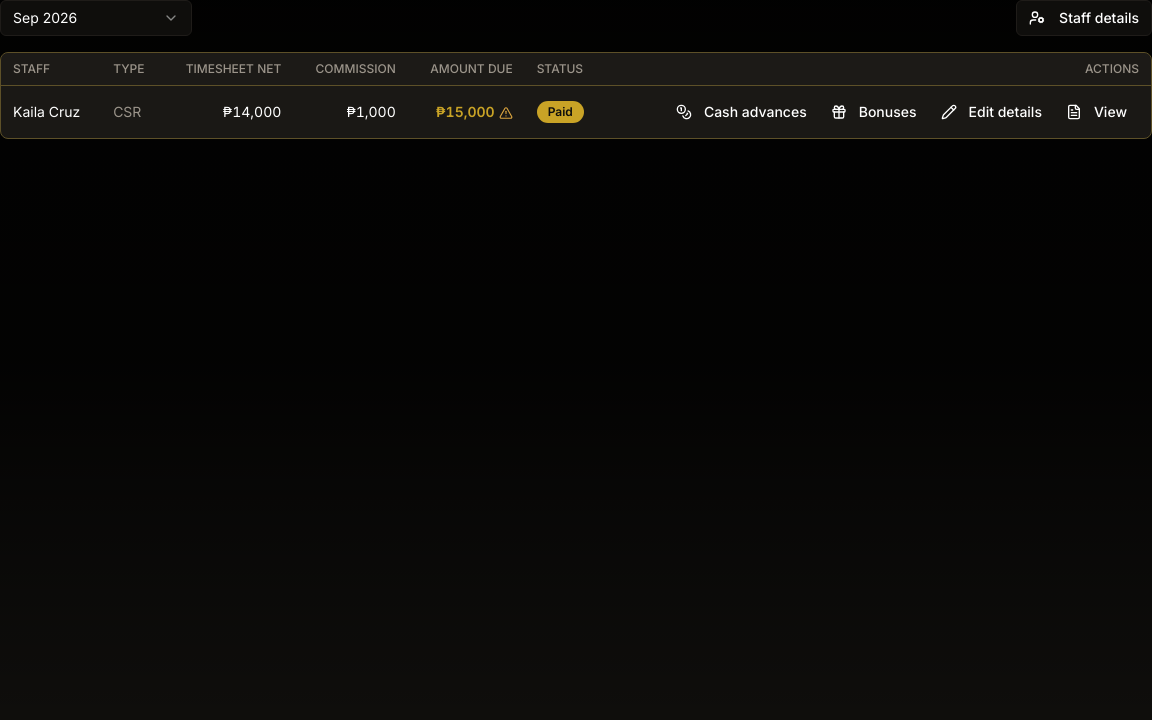
Test: Payslips tab — Edit figures › a corrected payslip says so on the view
The image size is (1152, 720).
Click the button "View" at (1096, 112), box [1054,94,1139,130]
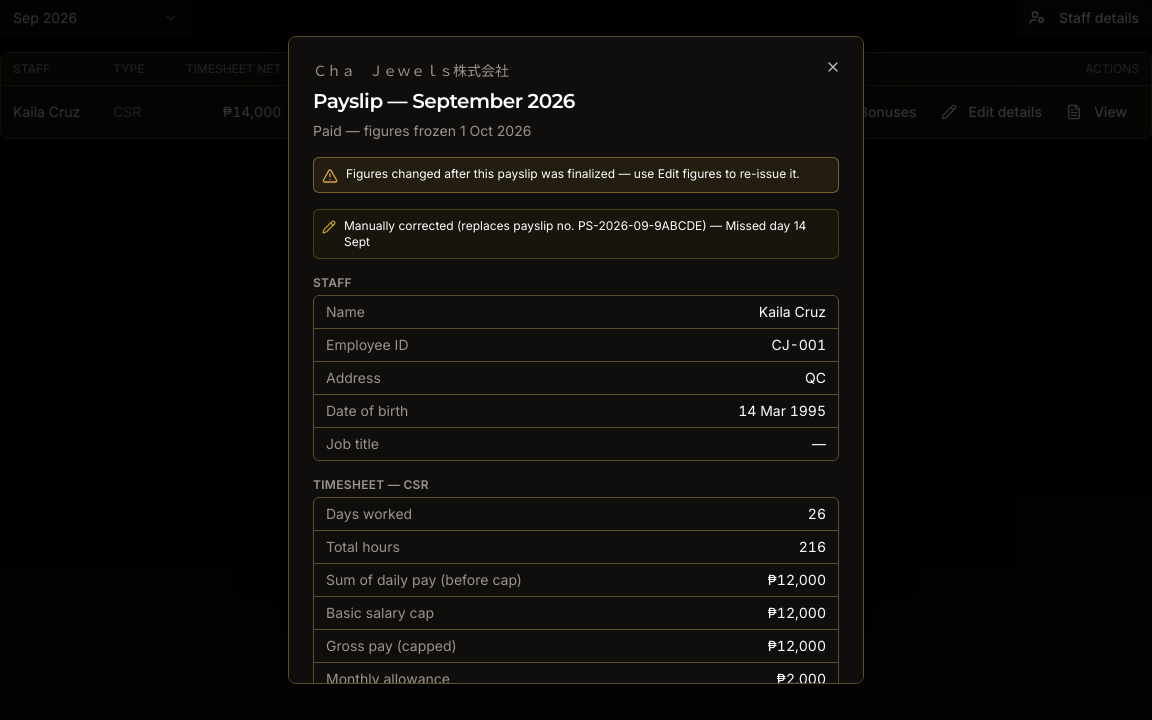
Result: the element with test id "payslip-corrected" reads "Manually corrected (replaces payslip no. PS-2026-09-9ABCDE) — Missed day 14 Sept" at [344,218,806,249]
